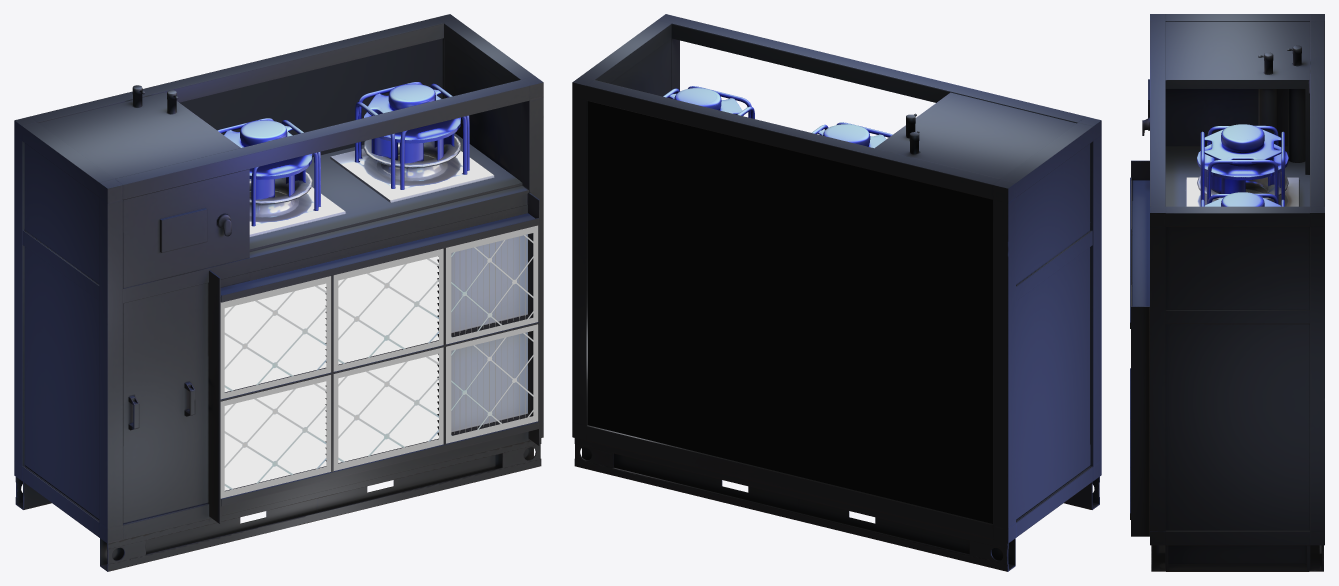
Rendered from mreduce1.glb.
The picture shows the model from 3 angles, left to right: view 1: azimuth 30°, elevation 25°; view 2: azimuth 150°, elevation 25°; view 3: azimuth 270°, elevation 25°; orthographic projection. The views are drawn at different scales.
Parts seen in each view (by area): view 1: D_Unit; view 2: D_Unit; view 3: D_Unit.
Boxes of the visible parts, x1=… form: D_Unit: x1=14, y1=14, x2=543, y2=571; D_Unit: x1=572, y1=14, x2=1101, y2=571; D_Unit: x1=1130, y1=14, x2=1324, y2=571.
Size of the model in its own units: 9.21 by 8.15 by 3.81.
Materials: 5 (4 with a texture image).
